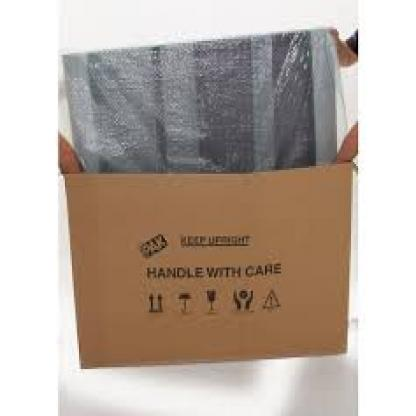Aluminum can: (56, 49, 406, 375)
